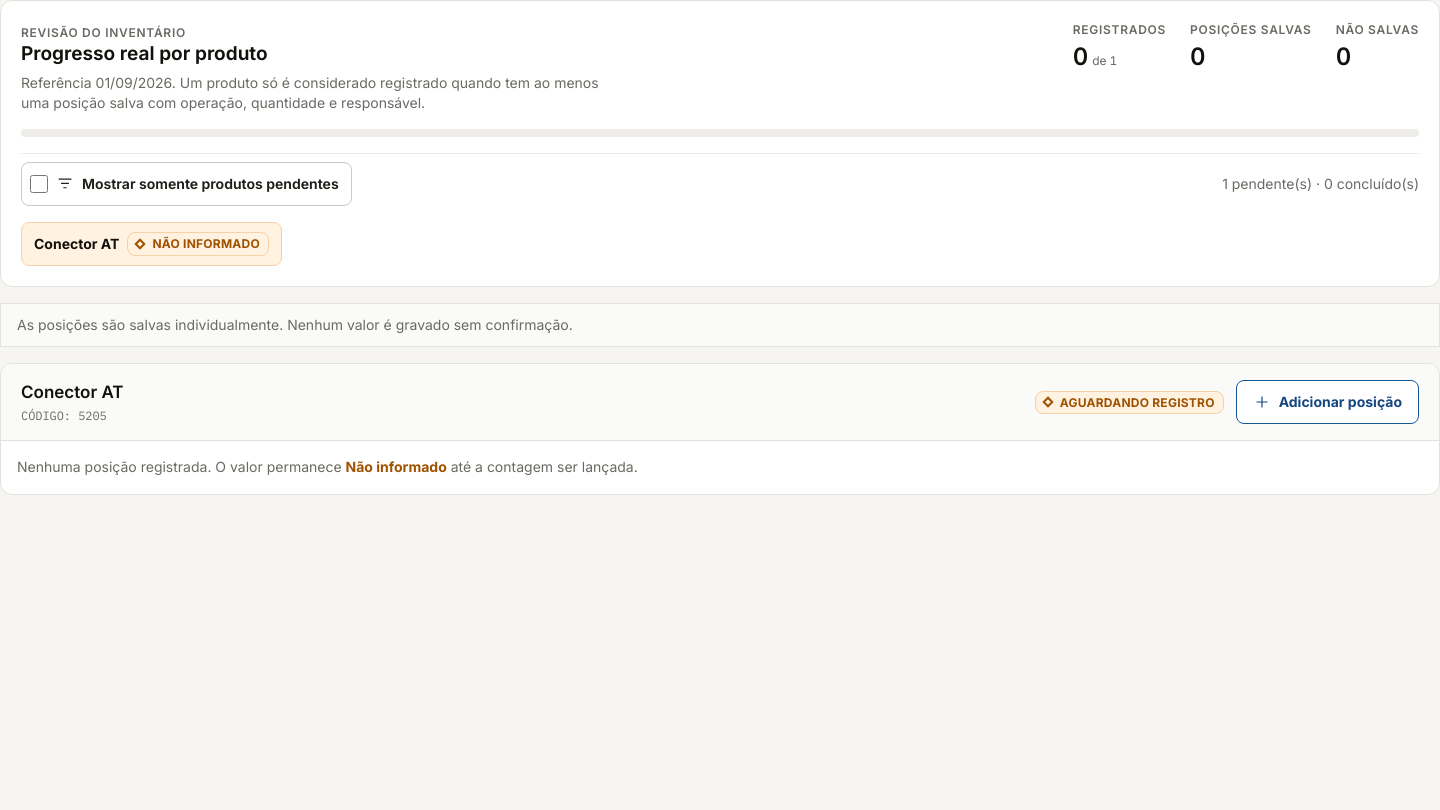
Test case: inventário de abertura › reporta o erro da API sem marcar a posição como salva
Click the button "Adicionar posição" at (1327, 402), box [1236,380,1419,424]
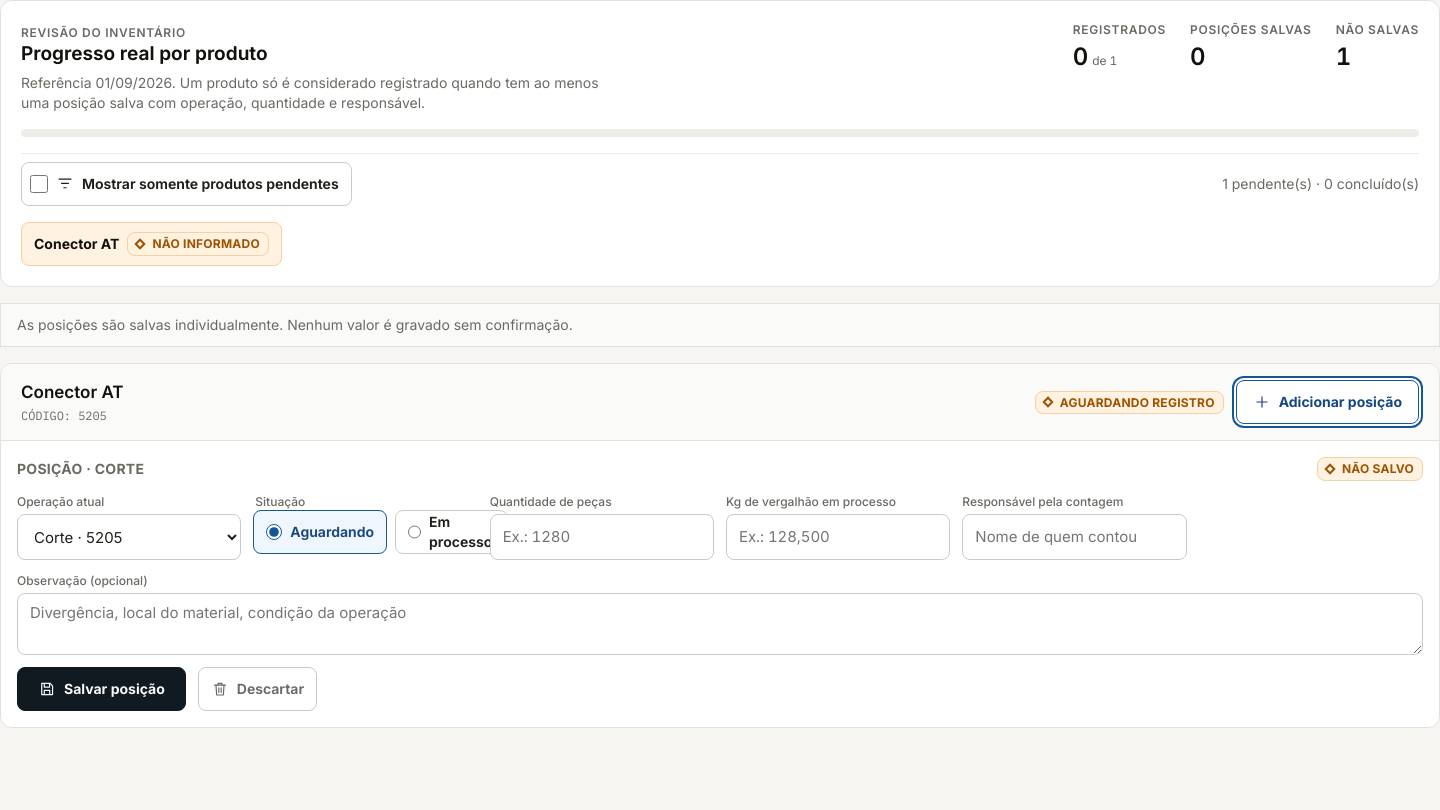
Type "10" into the field labelled "Quantidade de peças" at (602, 537), box [490,514,714,560]
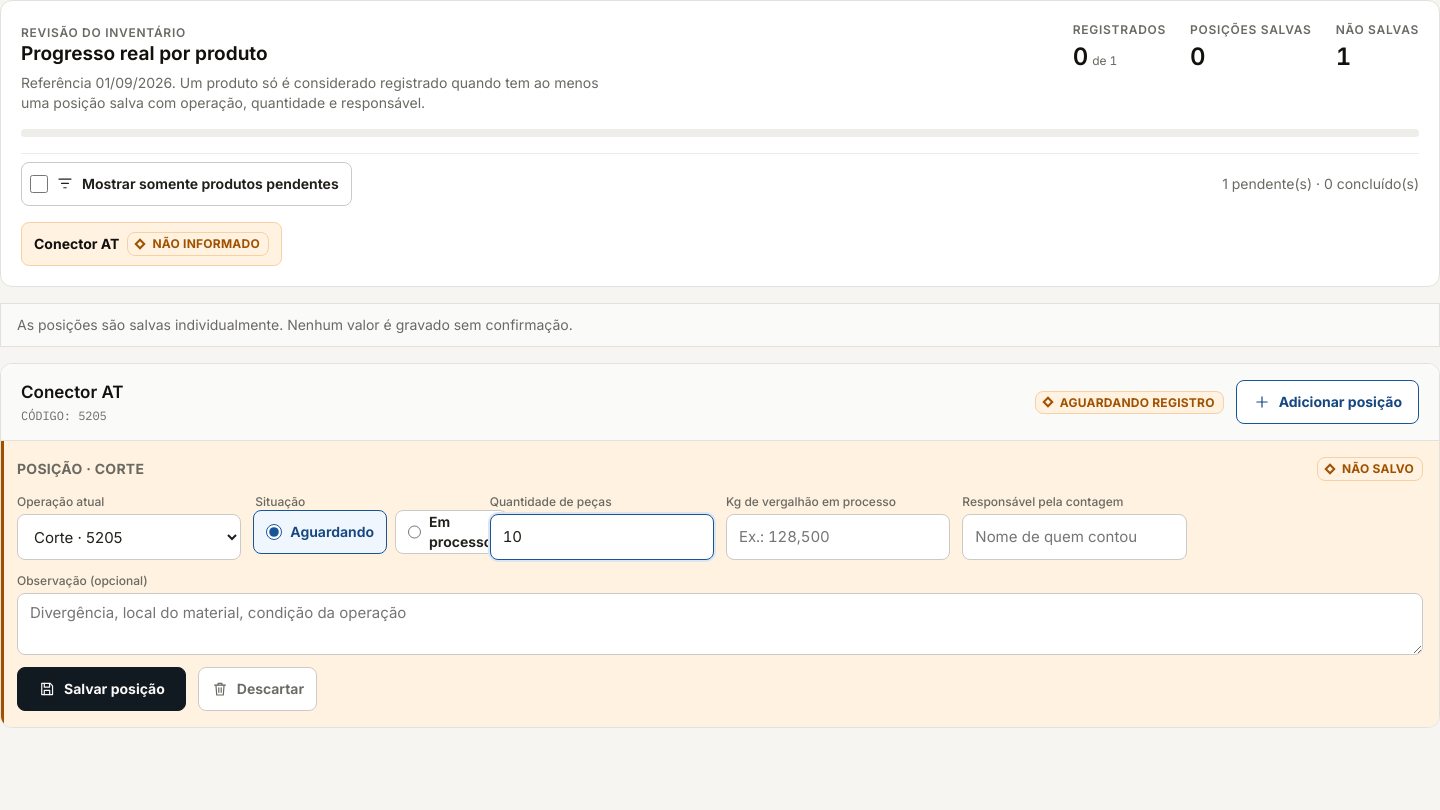
Type "1" into the field labelled "Kg de vergalhão em processo" at (838, 537), box [726,514,950,560]
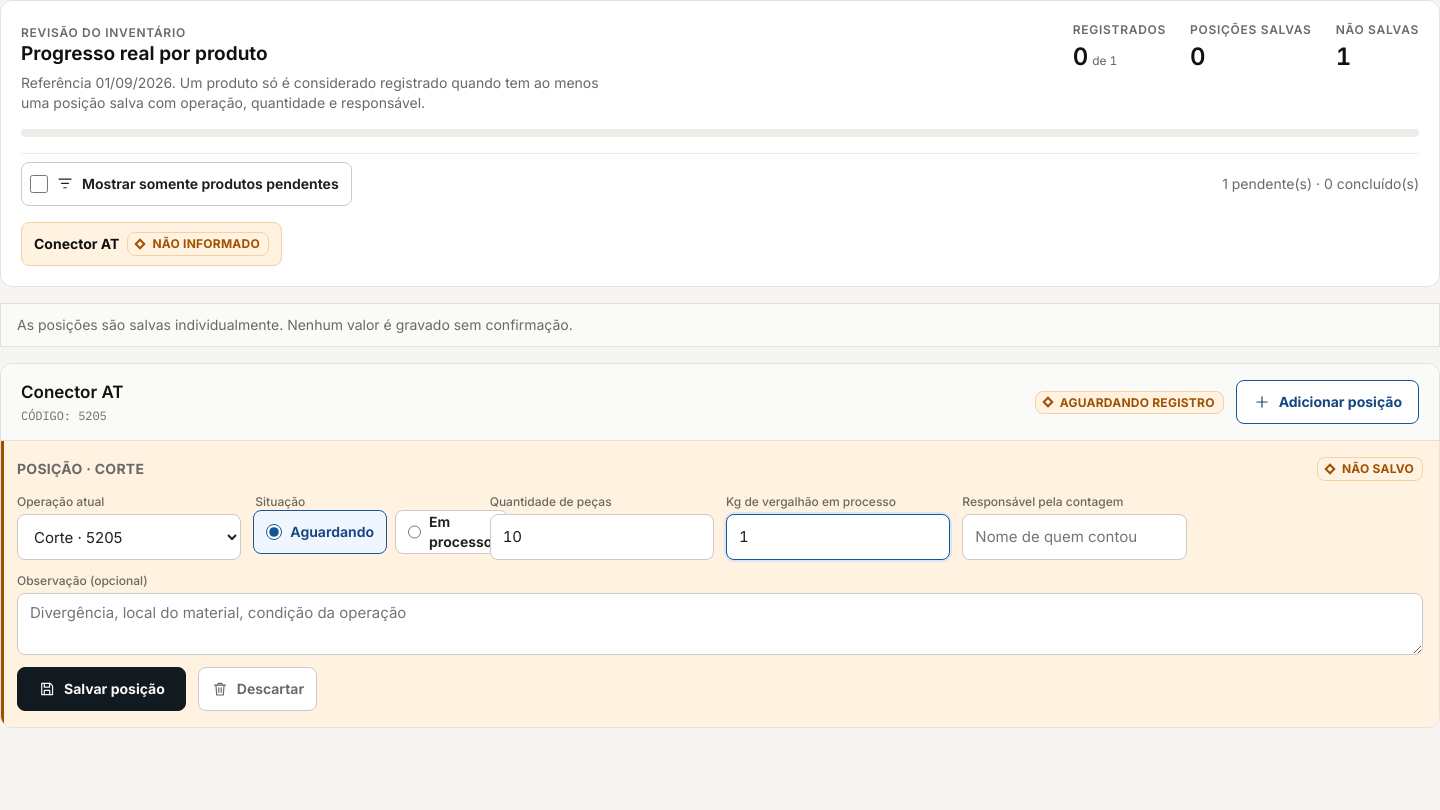
Type "Ana" into the field labelled "Responsável pela contagem" at (1074, 537), box [962,514,1187,560]
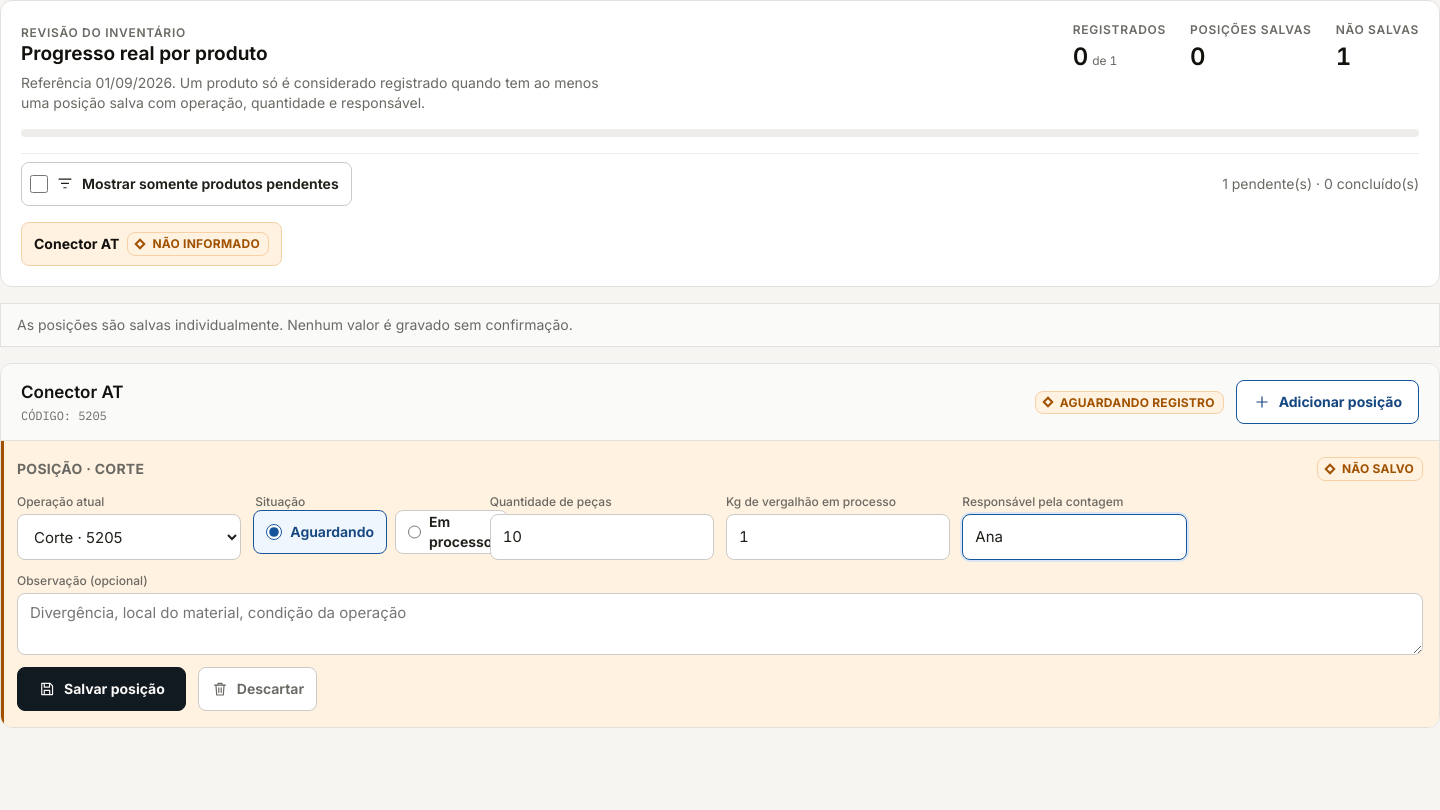
Click the button "Salvar posição" at (101, 689), box [17,667,186,711]
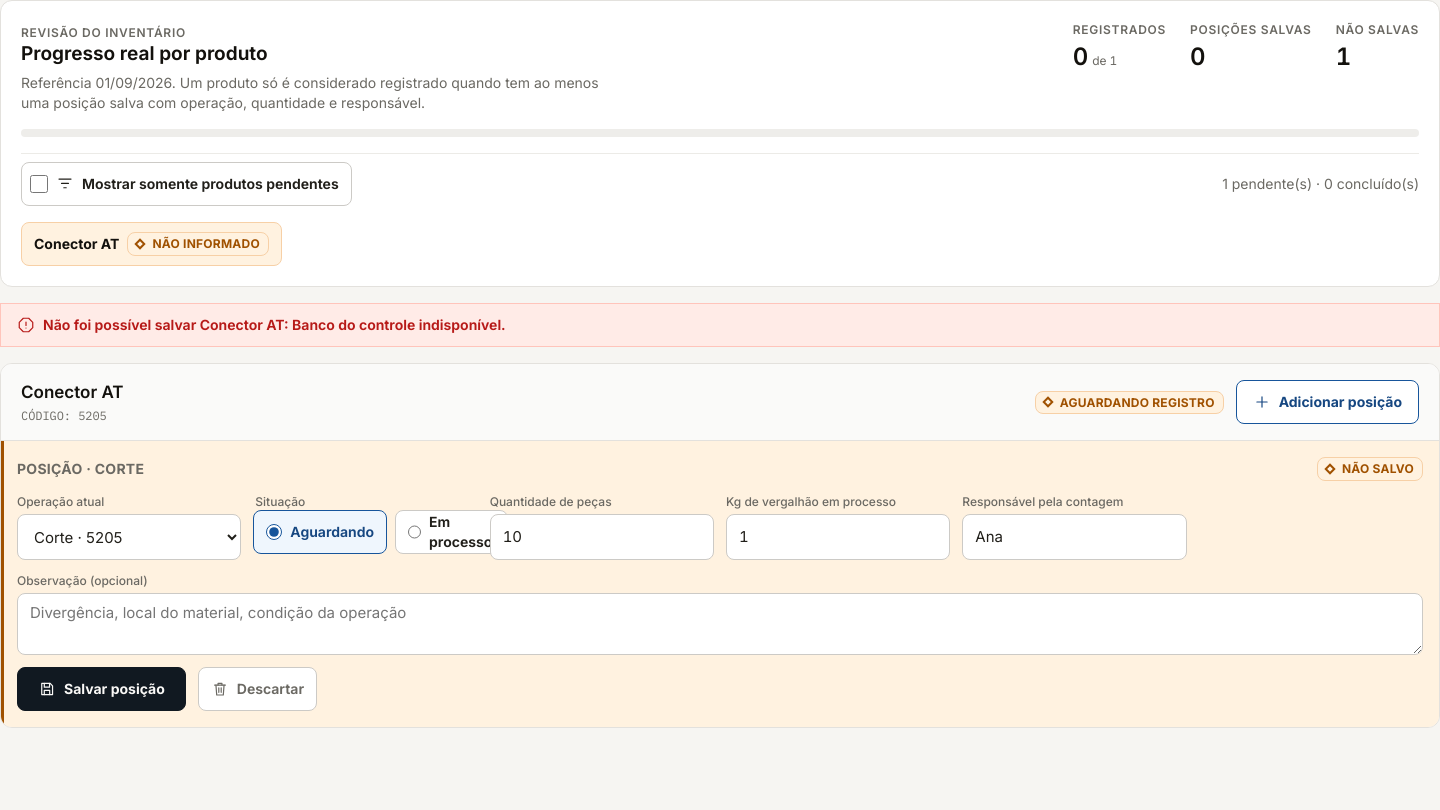
Now the text "Não salvo" is shown, box [1317,457,1423,481]
Now the text "Não foi possível salvar Conector AT: Banco do controle indisponível." is shown, box [0,303,1439,347]
